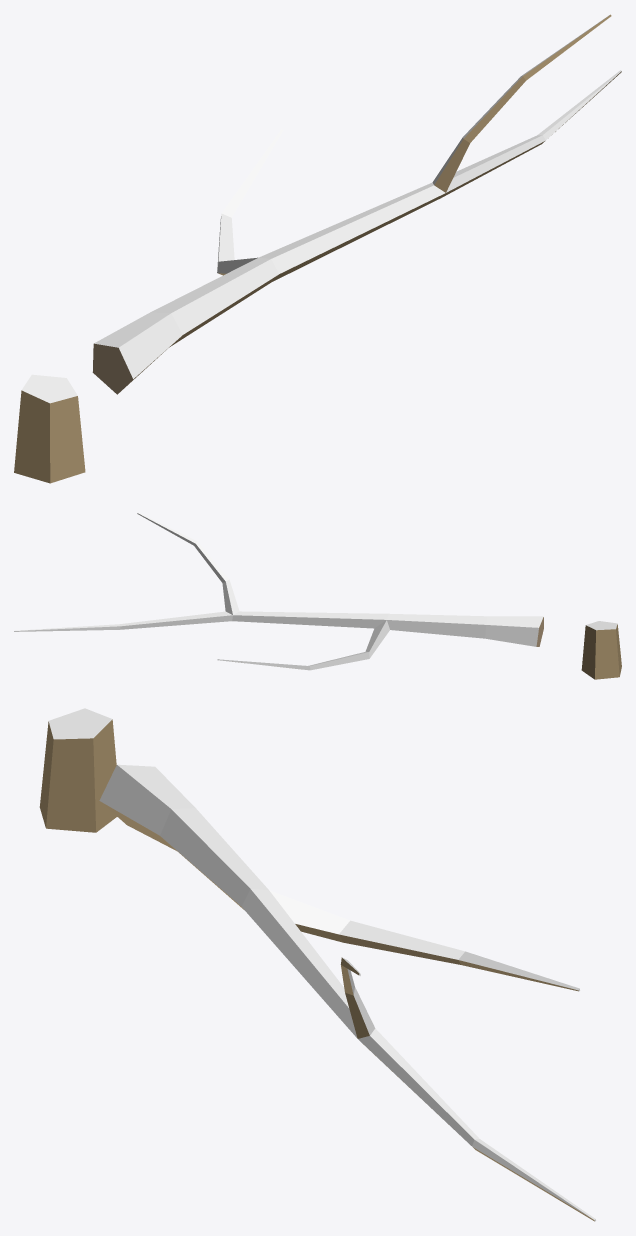
The model's file is Random_Tree_NoLeaves_crk_m_Snow_BT_03.fbx.
The picture shows the model from 3 angles, top to bottom: view 1: azimuth 30°, elevation 25°; view 2: azimuth 150°, elevation 25°; view 3: azimuth 270°, elevation 25°; orthographic projection. The views are drawn at different scales.
Parts seen in each view (by area): view 1: Random_Tree_NoLeaves_crk_m_Snow_BT_03; view 2: Random_Tree_NoLeaves_crk_m_Snow_BT_03; view 3: Random_Tree_NoLeaves_crk_m_Snow_BT_03.
Part boxes in pixels (bbox=[...]): Random_Tree_NoLeaves_crk_m_Snow_BT_03: bbox=[14, 14, 621, 483]; Random_Tree_NoLeaves_crk_m_Snow_BT_03: bbox=[14, 512, 621, 679]; Random_Tree_NoLeaves_crk_m_Snow_BT_03: bbox=[39, 708, 595, 1221].
Size of the model in its own units: 916 by 209 by 461.
